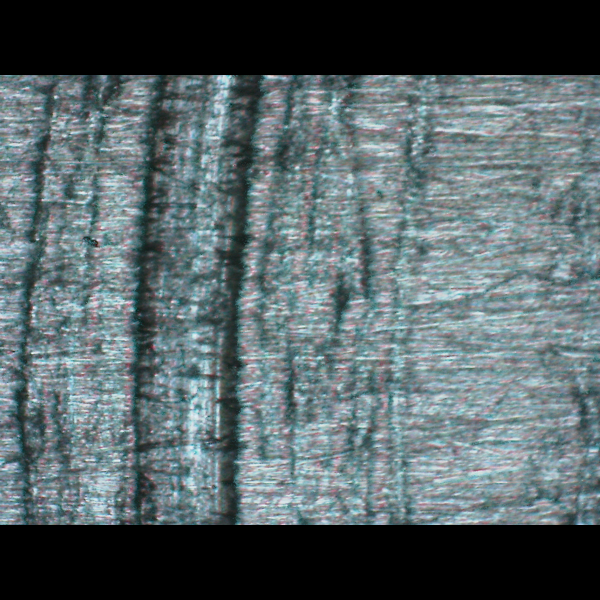d: (124, 75, 264, 520)
